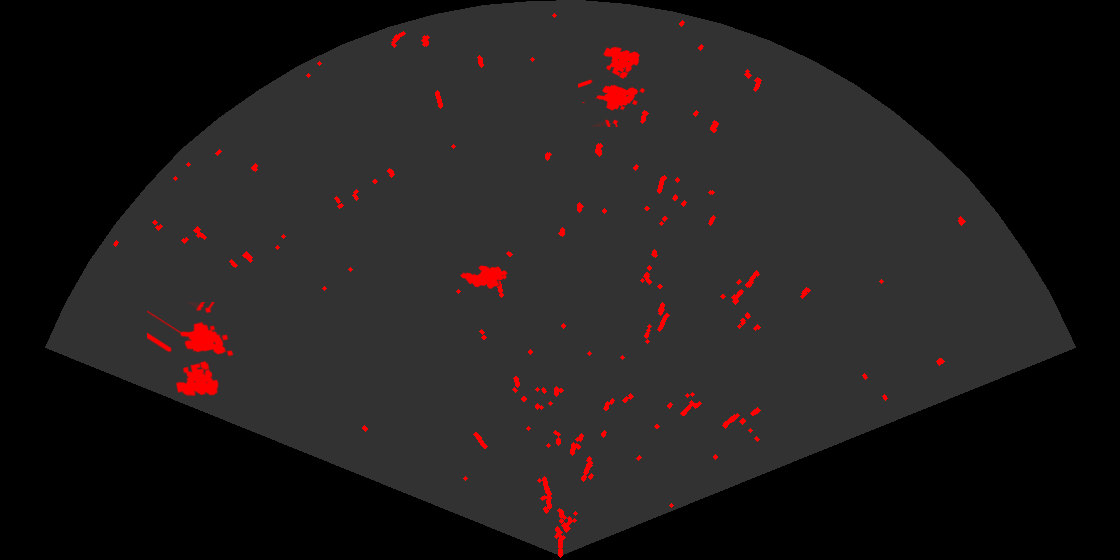AUV: (459, 264, 509, 290)
cage: (147, 302, 235, 398), (578, 45, 646, 127)
